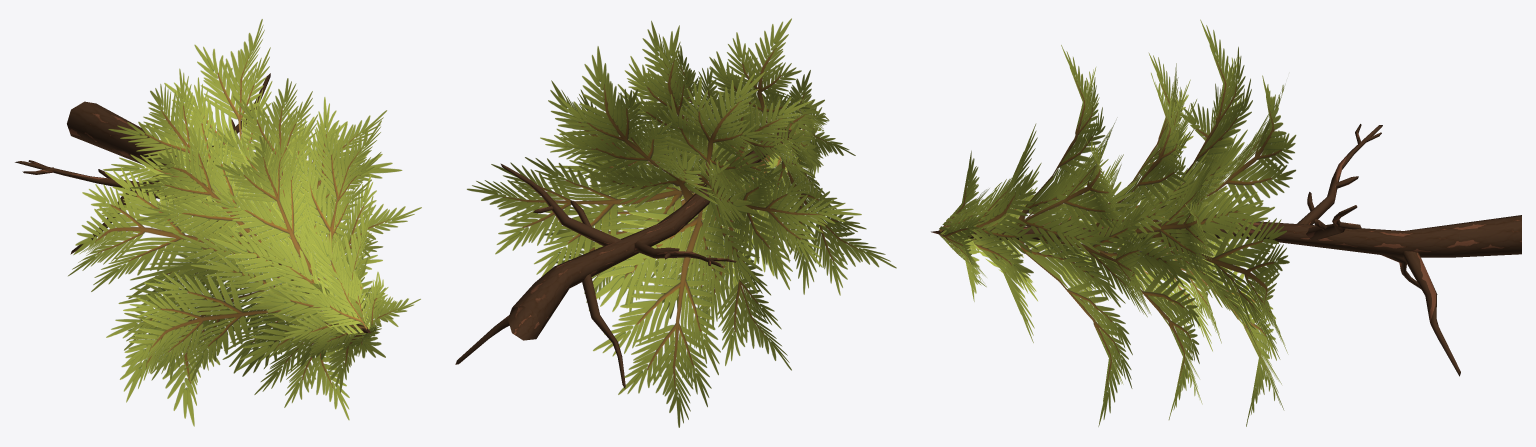
The model's file is PineTree_3.glb.
3 renders of one model, left to right at view 1: azimuth 30°, elevation 25°; view 2: azimuth 150°, elevation 25°; view 3: azimuth 270°, elevation 25°, orthographic. The views are drawn at different scales.
Parts seen in each view (by area): view 1: PineTree_3; view 2: PineTree_3; view 3: PineTree_3.
Boxes of the visible parts, x1=… form: PineTree_3: x1=15, y1=19, x2=421, y2=426; PineTree_3: x1=455, y1=18, x2=896, y2=427; PineTree_3: x1=931, y1=19, x2=1521, y2=426.
Size of the model in its own units: 1.76 by 1.75 by 2.35.
2 materials, 2 textured.
